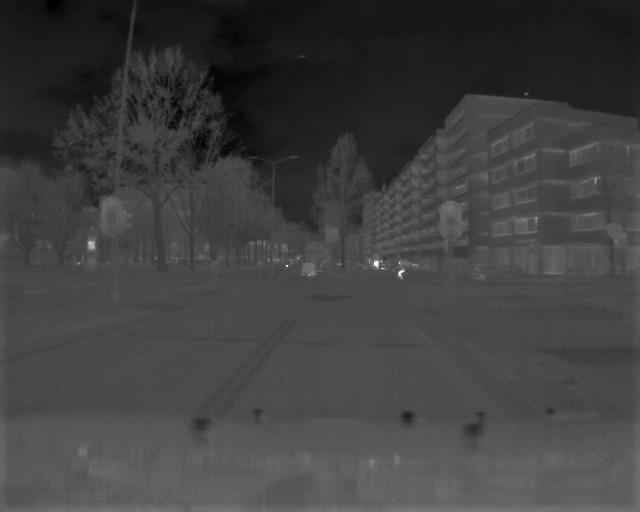car: (297, 260, 320, 280)
person: (394, 258, 408, 281)
